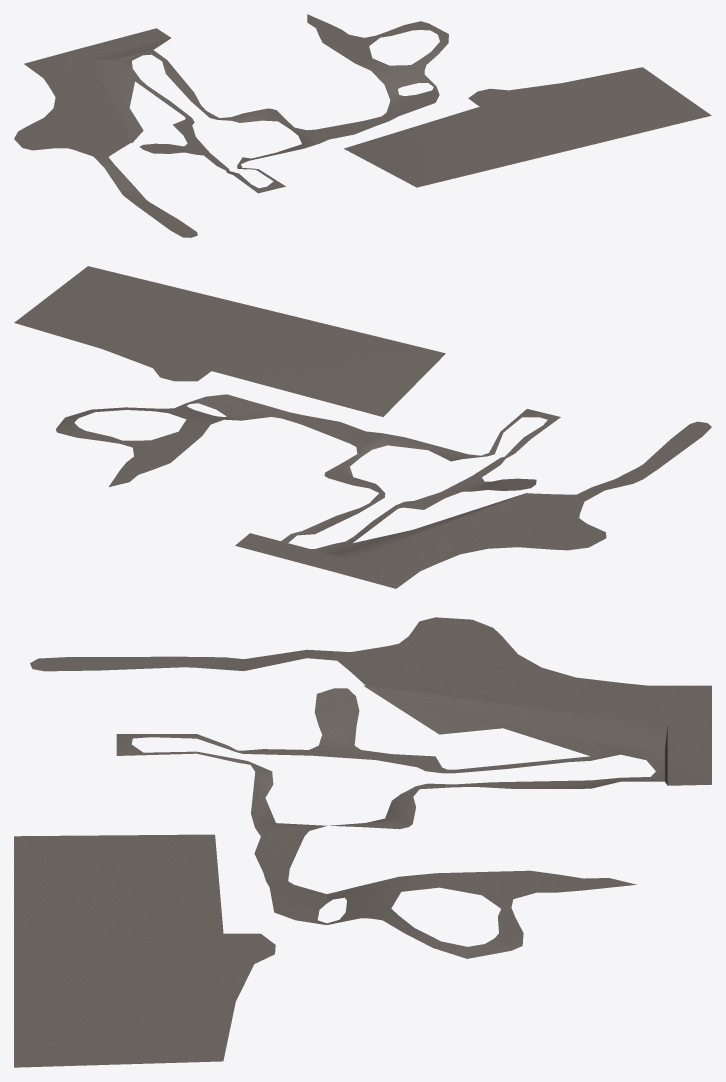
Rendered from kd_stage_135ded_4_126_bounded.glb.
The picture shows the model from 3 angles, top to bottom: view 1: azimuth 30°, elevation 25°; view 2: azimuth 150°, elevation 25°; view 3: azimuth 270°, elevation 25°; orthographic projection. The views are drawn at different scales.
Parts seen in each view (by area): view 1: kd_stage_135ded_4_126_bounded; view 2: kd_stage_135ded_4_126_bounded; view 3: kd_stage_135ded_4_126_bounded.
Part boxes in pixels (x1=…): kd_stage_135ded_4_126_bounded: x1=14, y1=14, x2=711, y2=237; kd_stage_135ded_4_126_bounded: x1=14, y1=266, x2=711, y2=588; kd_stage_135ded_4_126_bounded: x1=14, y1=617, x2=711, y2=1067.
Bounding box in the file's own units: 16.64 × 0.5771 × 11.21.
Materials: 1 (1 with a texture image).
